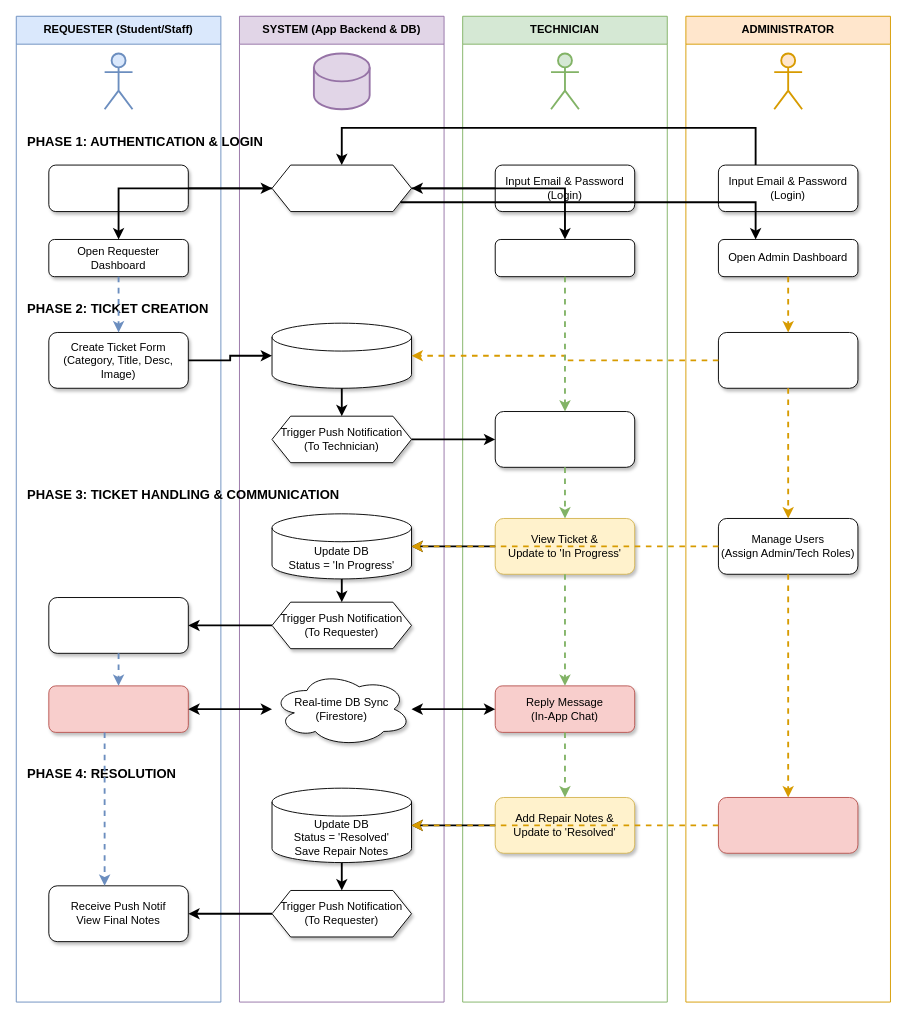
Some shapes in this 907 by 1018 pixel diagram are drawn without their labels. Each missing label, with the centre of its shape:
"Database" goes at (341,81).
"Delete False Tickets / Edit Ticket Creation Date" goes at (789,826).
"Firebase Authentication Check User Role in DB" goes at (342,189).
"Input Email & Password (Login / Register)" goes at (119,189).
"Monitor All Statistics Across All Users & Status" goes at (789,361).
"Open Technician Dashboard" goes at (565,259).
"Receive Push Notif 'New Ticket Received'" goes at (565,440).
"Receive Push Notif 'Ticket is In Progress'" goes at (119,626).
"Send Message (In-App Chat)" goes at (119,710).
"Store in Firestore DB Status = 'Pending'" goes at (342,357).
